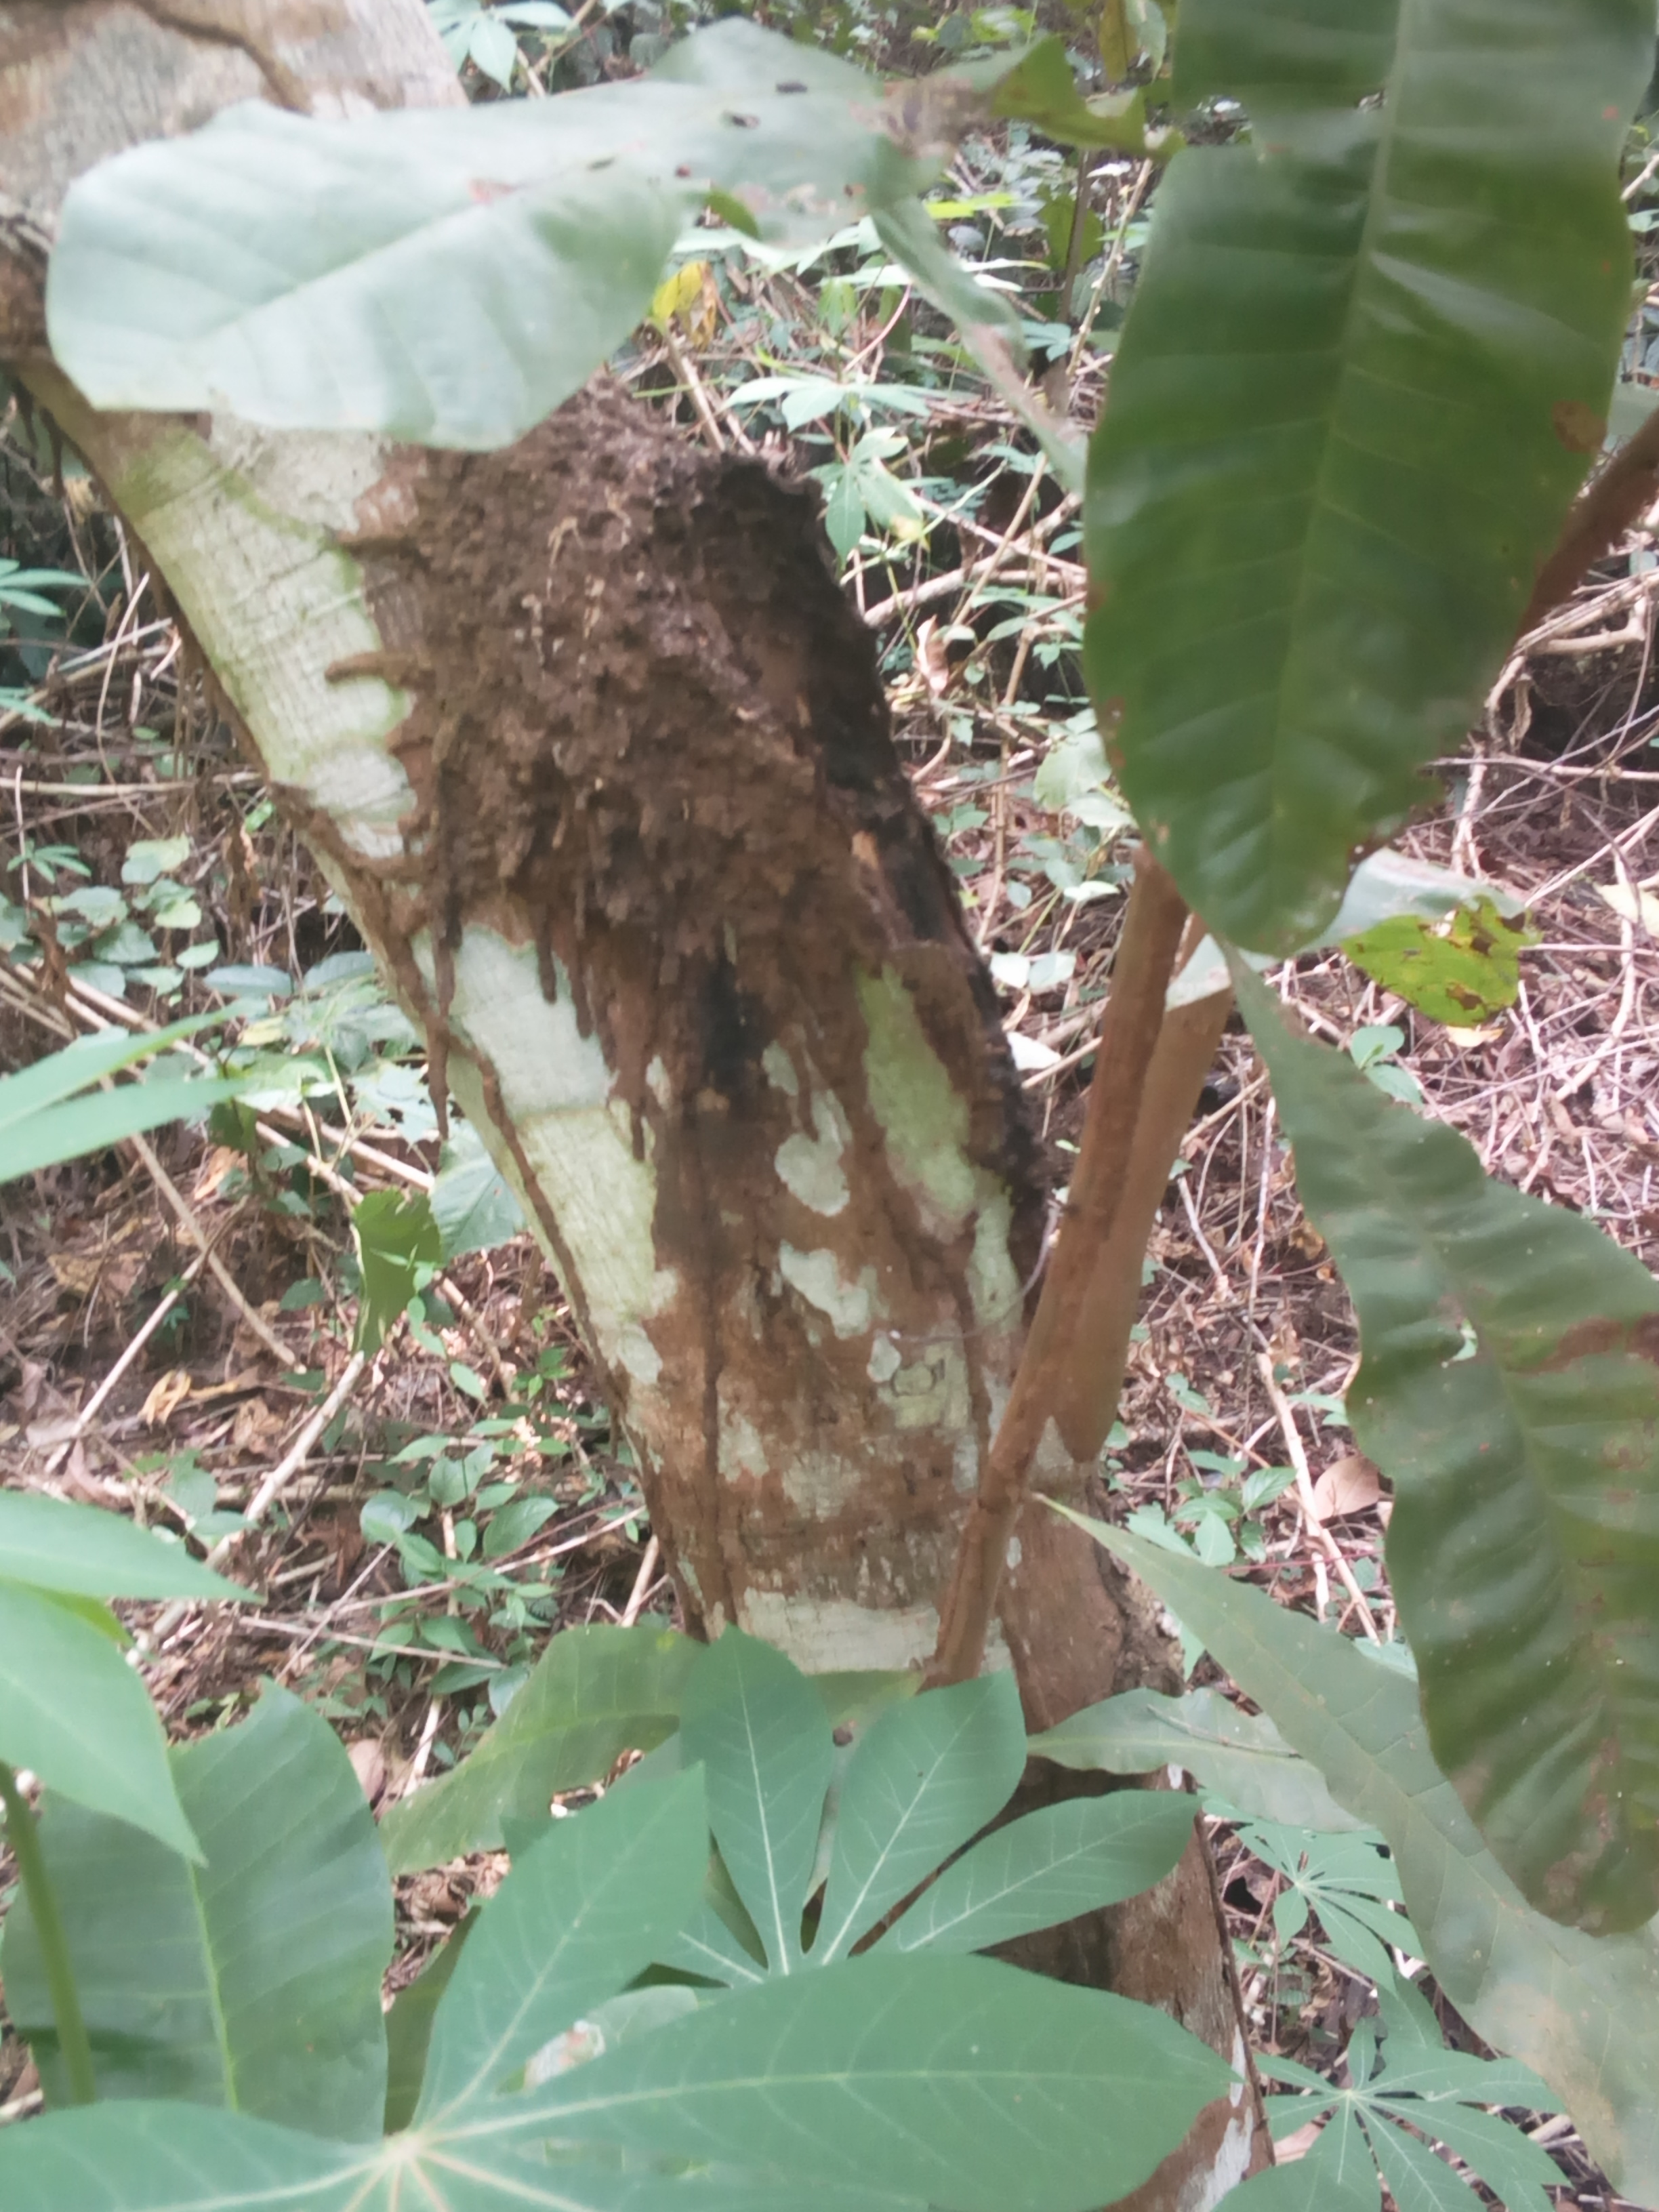Termites: (467, 462, 887, 1062)
